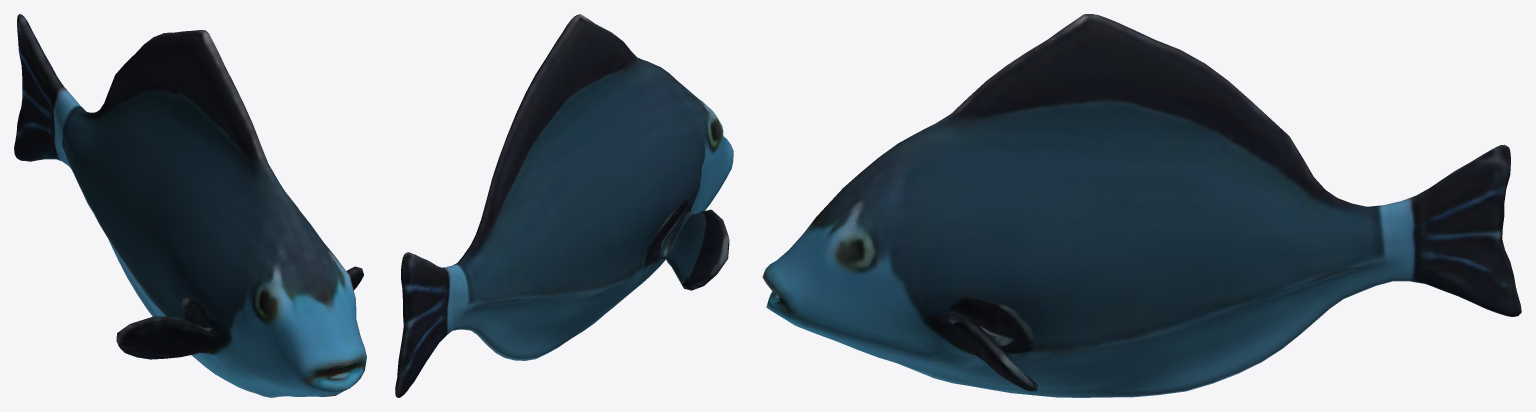
File: fish_09.glb
3 views of the same model, side by side, from view 1: azimuth 30°, elevation 25°; view 2: azimuth 150°, elevation 25°; view 3: azimuth 270°, elevation 25° (orthographic). The views are drawn at different scales.
Visible parts, largest first — view 1: mesh; view 2: mesh; view 3: mesh.
Part boxes in pixels (x1,y1,x2,y2): mesh: [14, 14, 366, 397]; mesh: [395, 14, 733, 397]; mesh: [762, 14, 1521, 397].
Size of the model in its own units: 0.4175 by 0.5522 by 0.9926.
Materials: 1 (1 with a texture image).
